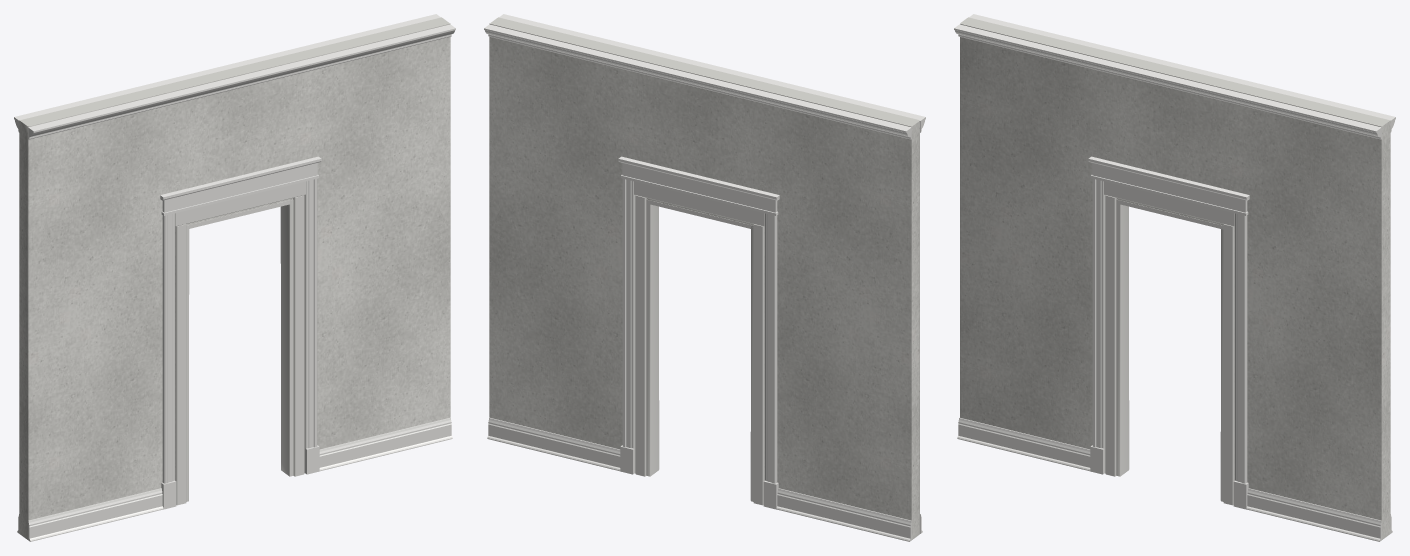
3 views of the same model, side by side, from view 1: azimuth 30°, elevation 25°; view 2: azimuth 150°, elevation 25°; view 3: azimuth 330°, elevation 25° (orthographic).
Parts seen in each view (by area): view 1: cw_336_d_plaster, molduras, cw_336_d_frame; view 2: cw_336_d_plaster, molduras, cw_336_d_frame; view 3: cw_336_d_plaster, molduras, cw_336_d_frame.
Part boxes in pixels (box(x1,y1,x2,y2)): cw_336_d_plaster: box(19, 17, 450, 539); molduras: box(14, 14, 455, 541); cw_336_d_frame: box(175, 181, 305, 505); cw_336_d_plaster: box(489, 17, 919, 539); molduras: box(484, 14, 925, 541); cw_336_d_frame: box(634, 181, 764, 505); cw_336_d_plaster: box(960, 17, 1390, 539); molduras: box(954, 14, 1395, 541); cw_336_d_frame: box(1104, 181, 1234, 505).
Bounding box in the file's own units: 3.36 × 3.14 × 0.27.
3 materials, 1 textured.
